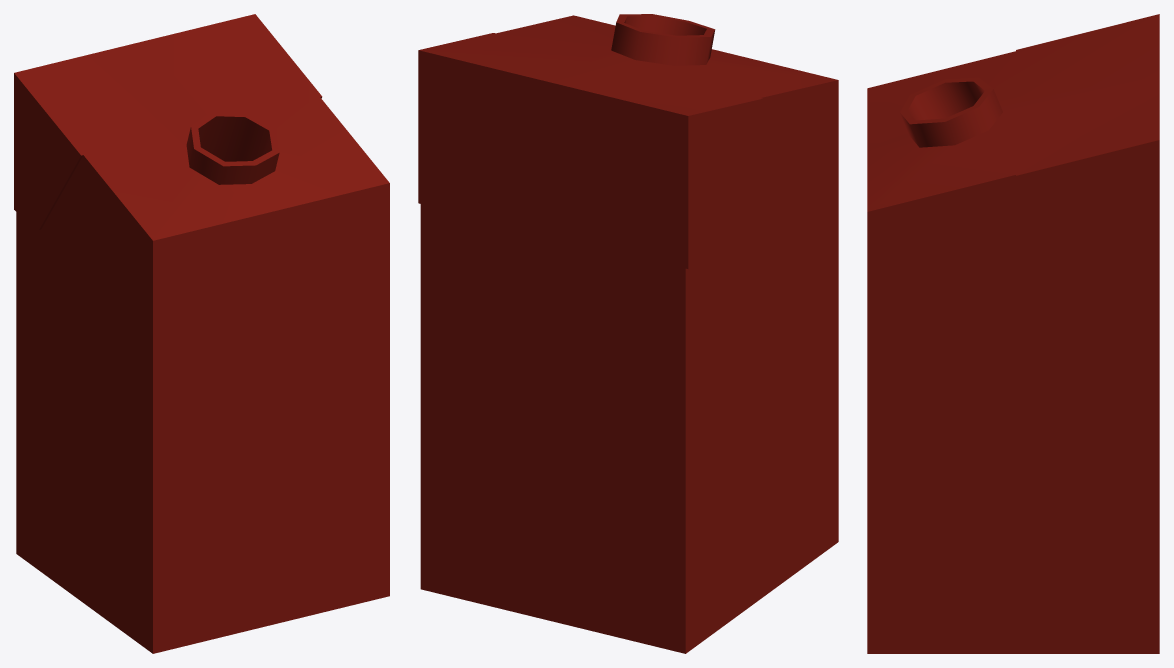
File: mleko.fbx
3 views of the same model, side by side, from view 1: azimuth 30°, elevation 25°; view 2: azimuth 150°, elevation 25°; view 3: azimuth 270°, elevation 25° (orthographic). The views are drawn at different scales.
Visible parts, largest first — view 1: pudełko z mlekiem; view 2: pudełko z mlekiem; view 3: pudełko z mlekiem.
Part boxes in pixels (x1,y1,x2,y2): pudełko z mlekiem: (14,14,389,653); pudełko z mlekiem: (418,14,838,653); pudełko z mlekiem: (867,14,1159,653).
Size of the model in its own units: 4.81 by 9.18 by 4.72.
